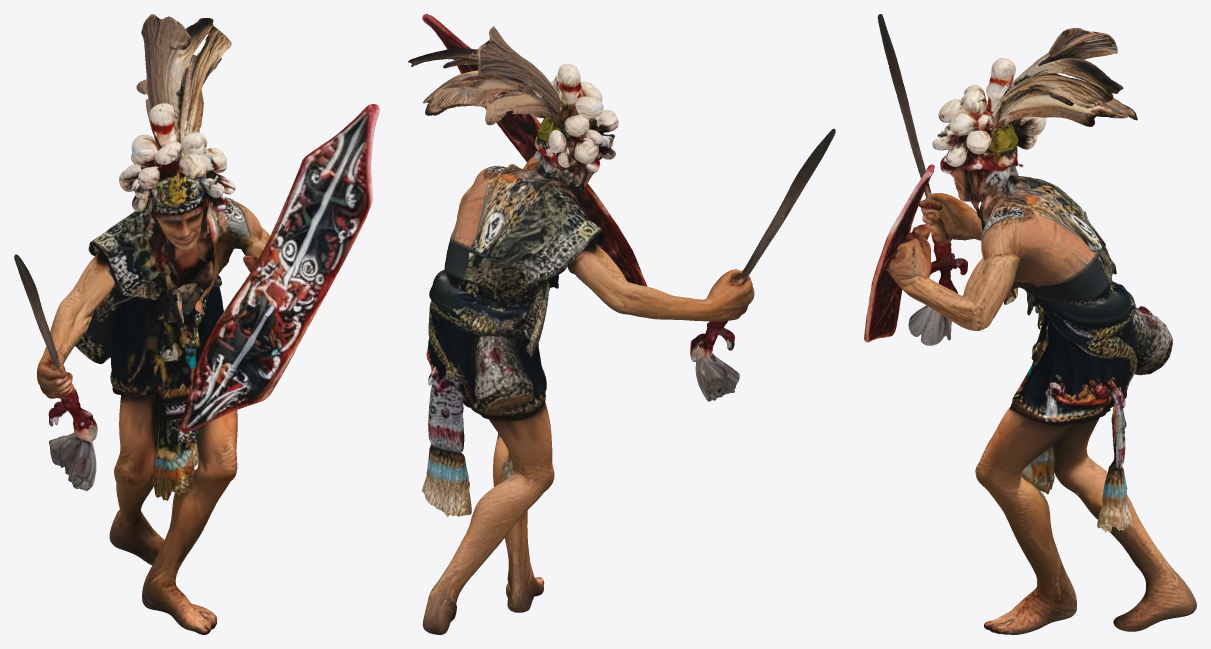
File: kancet-papatai.glb
The picture shows the model from 3 angles, left to right: view 1: azimuth 30°, elevation 25°; view 2: azimuth 150°, elevation 25°; view 3: azimuth 270°, elevation 25°; orthographic projection. The views are drawn at different scales.
Parts seen in each view (by area): view 1: Object_4; view 2: Object_4; view 3: Object_4.
Boxes of the visible parts, bbox=[...] form: Object_4: bbox=[14, 14, 379, 634]; Object_4: bbox=[408, 14, 835, 634]; Object_4: bbox=[864, 14, 1196, 634].
Size of the model in its own units: 0.6945 by 1 by 0.4978.
Materials: 1 (1 with a texture image).
